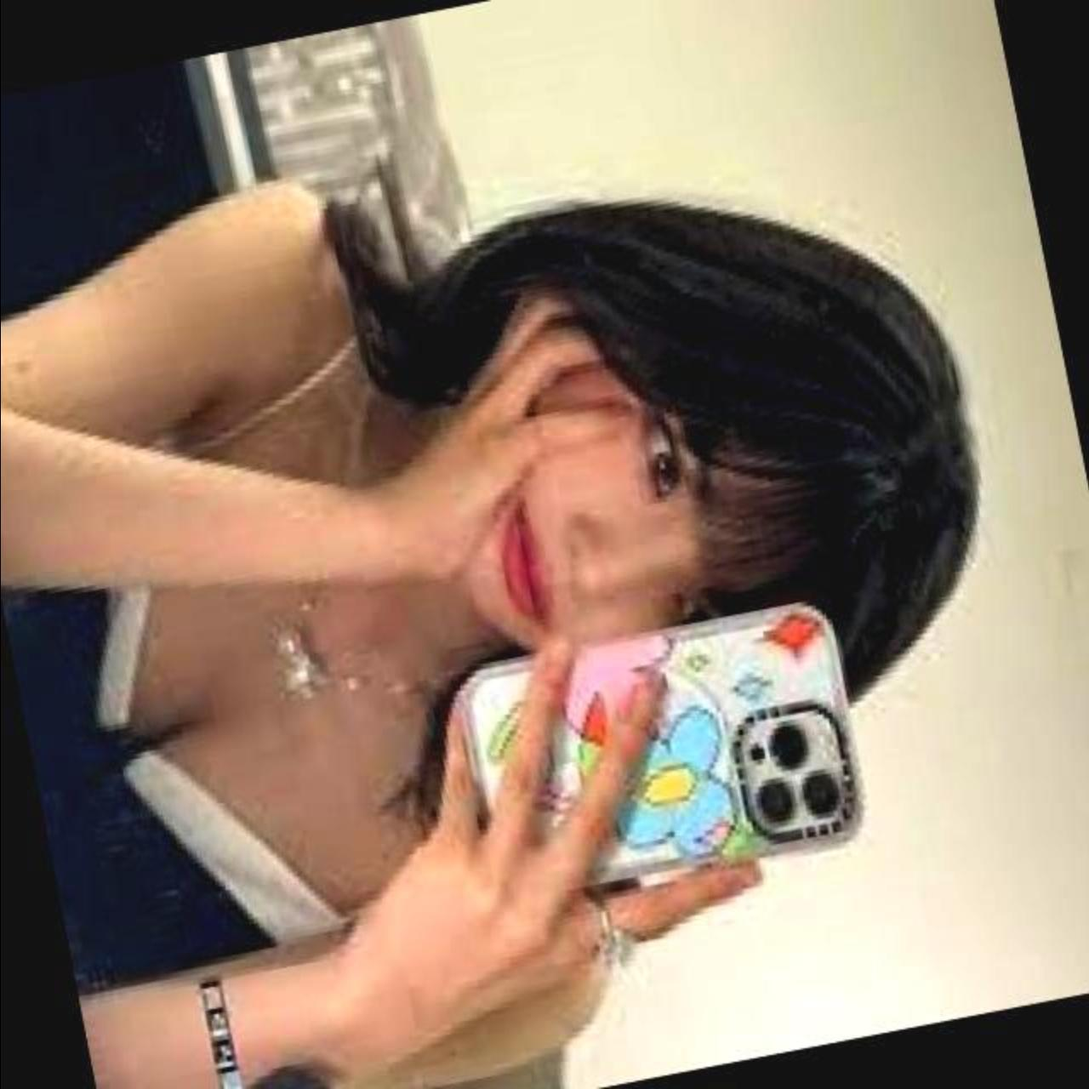phone: (429, 594, 883, 917)
